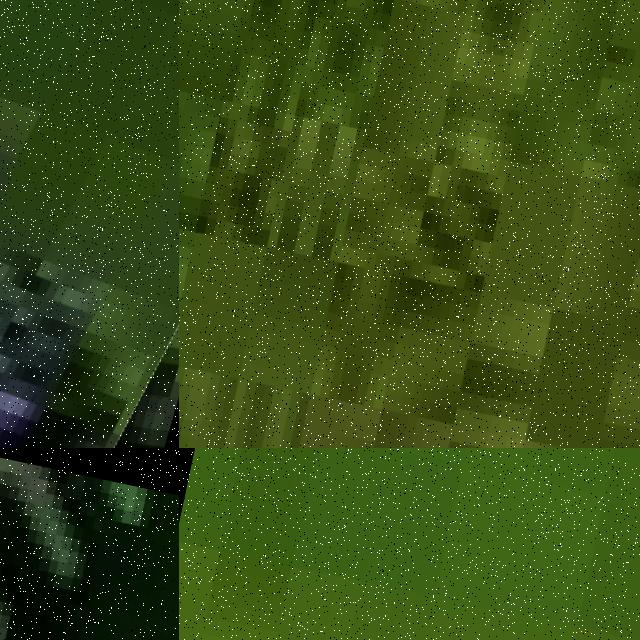drone: (0, 0, 179, 448)
